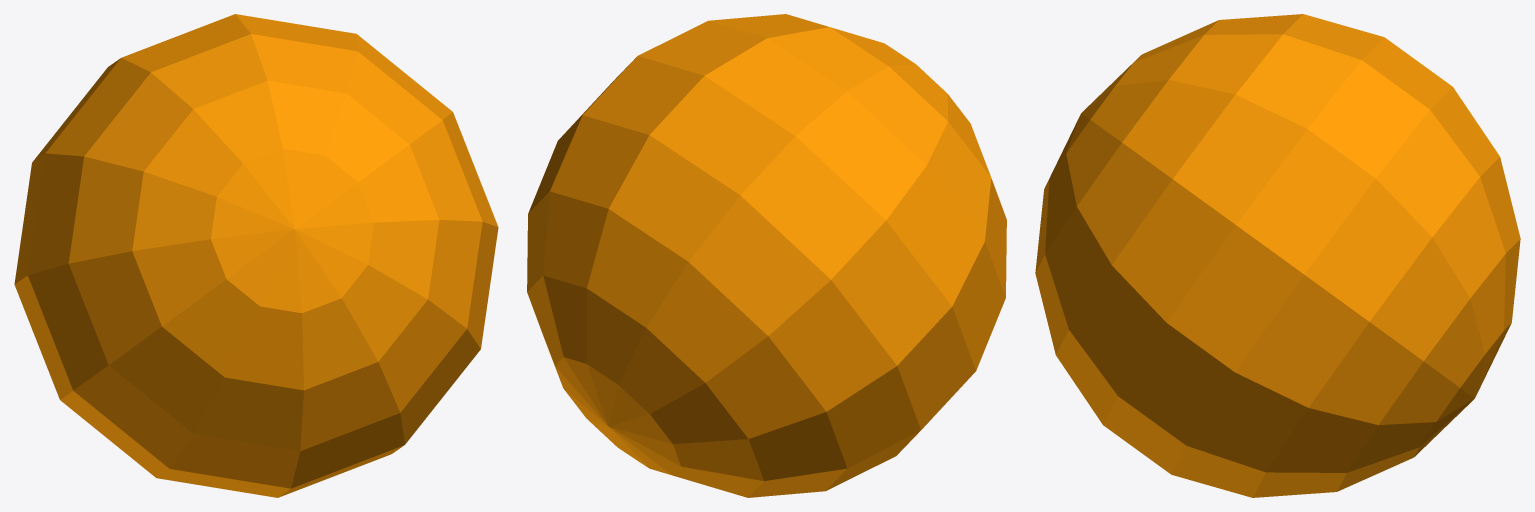
The model's file is astronaut_spawn_group1943308988_lev4.glb.
3 views of the same model, side by side, from view 1: azimuth 30°, elevation 25°; view 2: azimuth 150°, elevation 25°; view 3: azimuth 270°, elevation 25° (orthographic).
Visible parts, largest first — view 1: astronaut_spawn_group1943308988_lev4; view 2: astronaut_spawn_group1943308988_lev4; view 3: astronaut_spawn_group1943308988_lev4.
Boxes of the visible parts, x1=… form: astronaut_spawn_group1943308988_lev4: x1=14, y1=14, x2=498, y2=497; astronaut_spawn_group1943308988_lev4: x1=527, y1=14, x2=1006, y2=497; astronaut_spawn_group1943308988_lev4: x1=1035, y1=14, x2=1520, y2=497.
Bounding box in the file's own units: 0.0677 × 0.069 × 0.0688.
